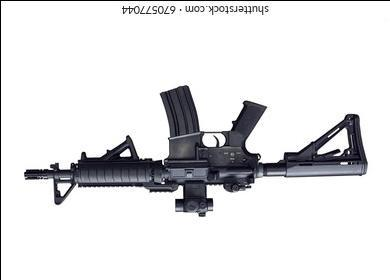gun: (22, 83, 372, 217)
